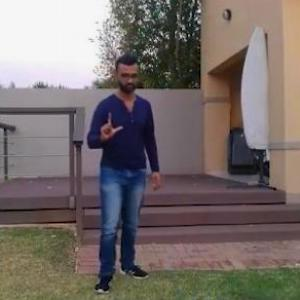land_hand: (95, 105, 124, 145)
